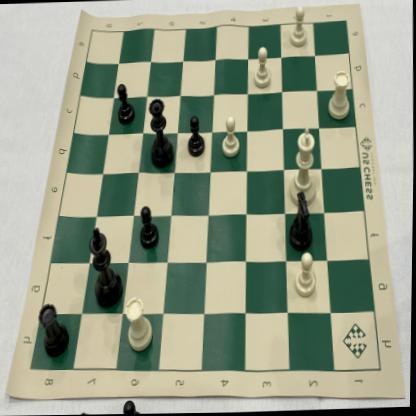black-king: (87, 223, 128, 311)
black-knight: (285, 190, 317, 252)
black-pawn: (137, 203, 162, 254), (113, 79, 136, 128), (187, 114, 208, 160)
black-queen: (147, 94, 175, 170)
black-rook: (36, 299, 71, 360), (124, 293, 157, 353)
white-king: (288, 122, 321, 209)
white-pawn: (293, 251, 320, 300), (251, 44, 274, 90), (220, 114, 242, 161), (287, 5, 310, 49)
white-rook: (325, 69, 354, 121)
